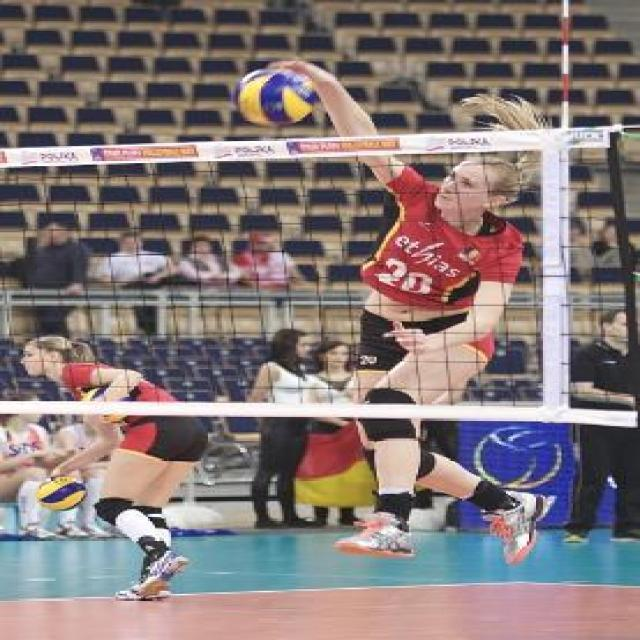volleyball: (236, 70, 317, 128), (38, 477, 87, 512)
